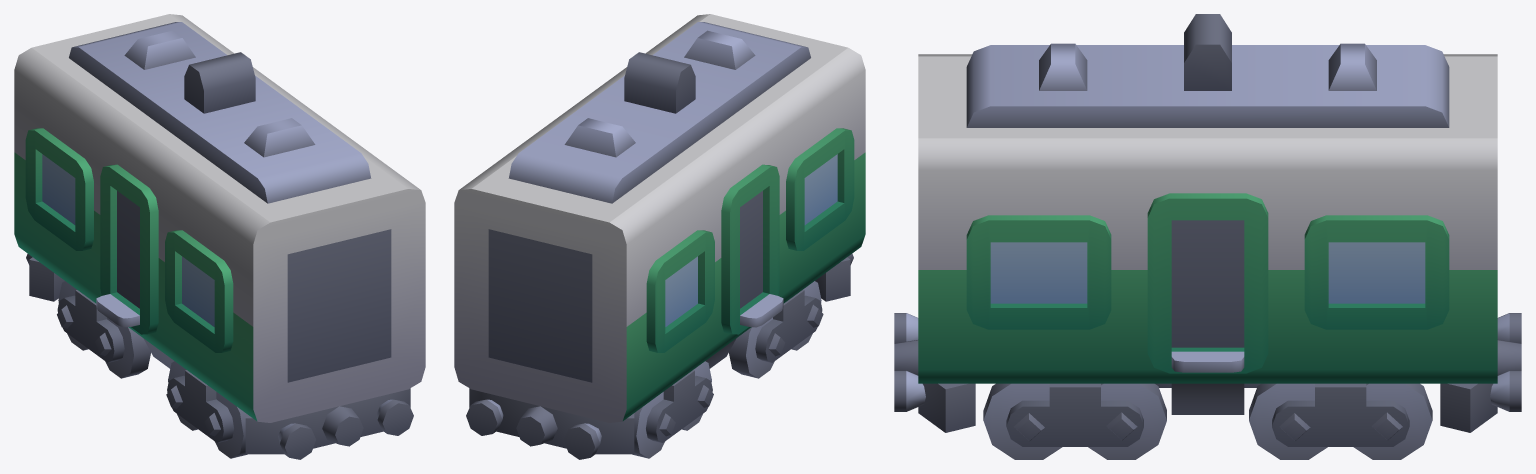
File: train-electric-square-b.glb
The picture shows the model from 3 angles, left to right: view 1: azimuth 30°, elevation 25°; view 2: azimuth 150°, elevation 25°; view 3: azimuth 270°, elevation 25°; orthographic projection. The views are drawn at different scales.
Visible parts, largest first — view 1: train-electric-square-b, wheels-back, wheels-front; view 2: train-electric-square-b, wheels-front, wheels-back; view 3: train-electric-square-b, wheels-back, wheels-front.
Part boxes in pixels (x1,y1,x2,y2): train-electric-square-b: [14, 14, 425, 459]; wheels-back: [57, 281, 150, 378]; wheels-front: [166, 361, 247, 458]; train-electric-square-b: [454, 14, 865, 459]; wheels-front: [729, 281, 823, 378]; wheels-back: [632, 361, 713, 458]; train-electric-square-b: [894, 14, 1521, 432]; wheels-back: [1249, 383, 1432, 459]; wheels-front: [983, 383, 1166, 459].
Bounding box in the file's own units: 1.3 × 1.78 × 2.6.
